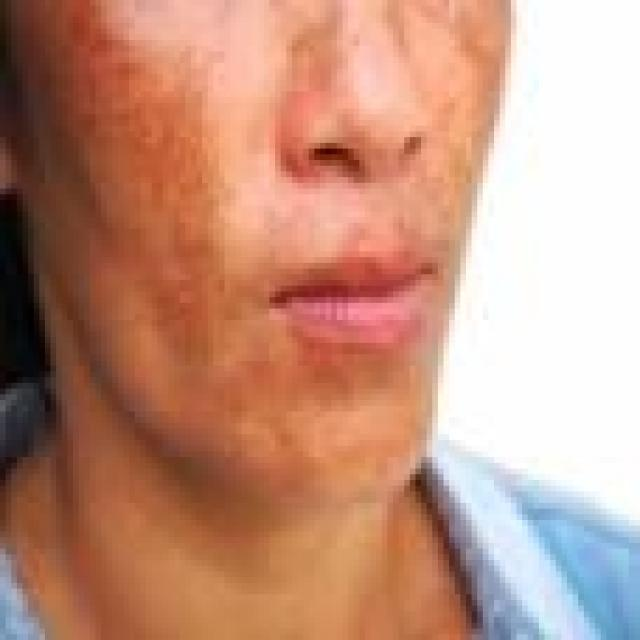Melasma: (28, 0, 232, 381)
